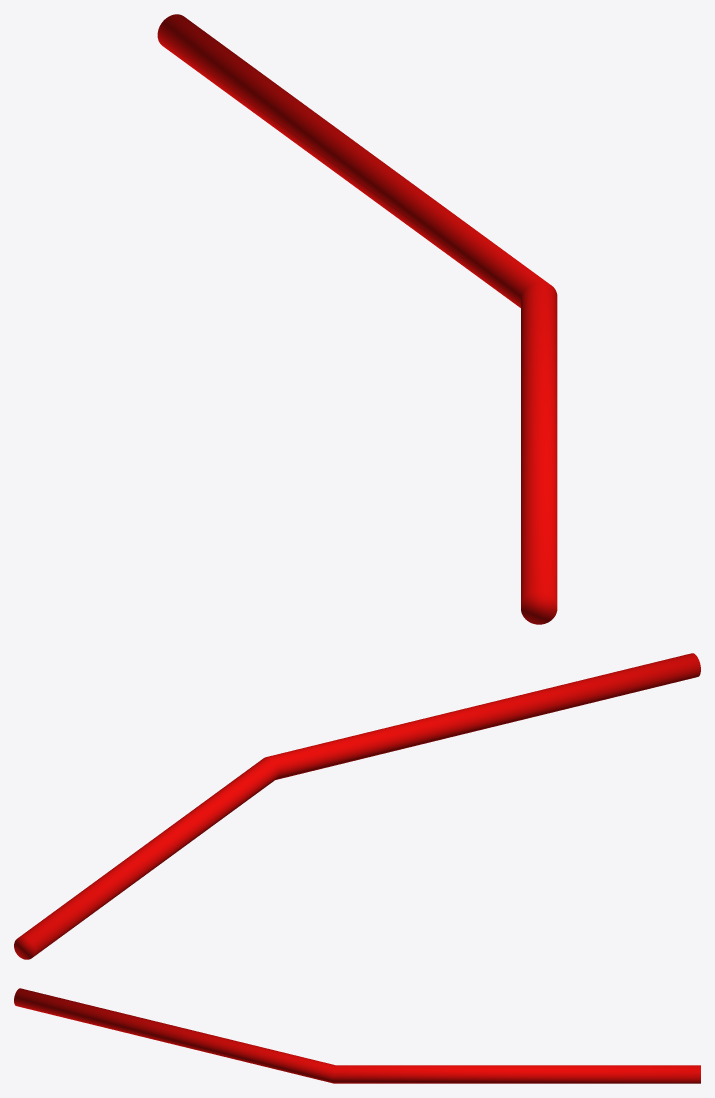
Rendered from main_tube.dae.
3 renders of one model, top to bottom at view 1: azimuth 30°, elevation 25°; view 2: azimuth 150°, elevation 25°; view 3: azimuth 270°, elevation 25°, orthographic. The views are drawn at different scales.
Visible parts, largest first — view 1: Труба с изгибом; view 2: Труба с изгибом; view 3: Труба с изгибом.
Boxes of the visible parts, x1,y1,x2,y2 form: Труба с изгибом: (157, 14, 557, 624); Труба с изгибом: (14, 653, 700, 959); Труба с изгибом: (14, 988, 700, 1083).
Size of the model in its own units: 2.19 by 7.51 by 0.2.
